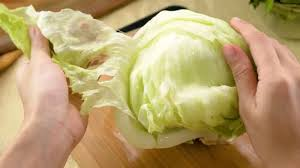Lettuce: (83, 4, 257, 157)
